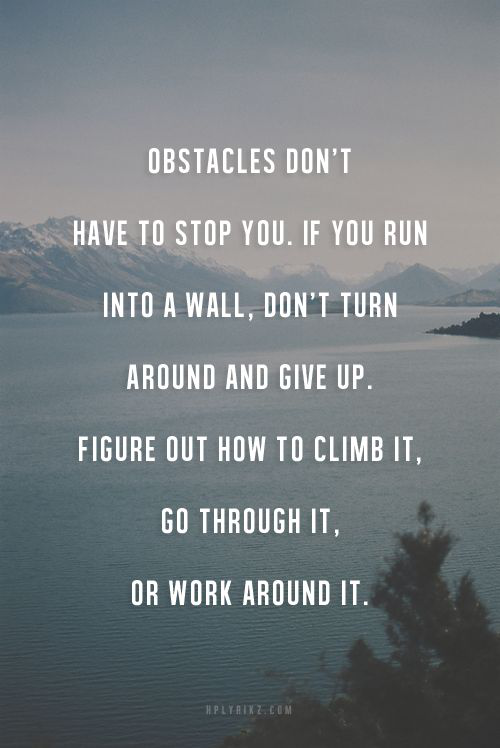latin: (70, 140, 429, 611), (202, 699, 293, 720)
